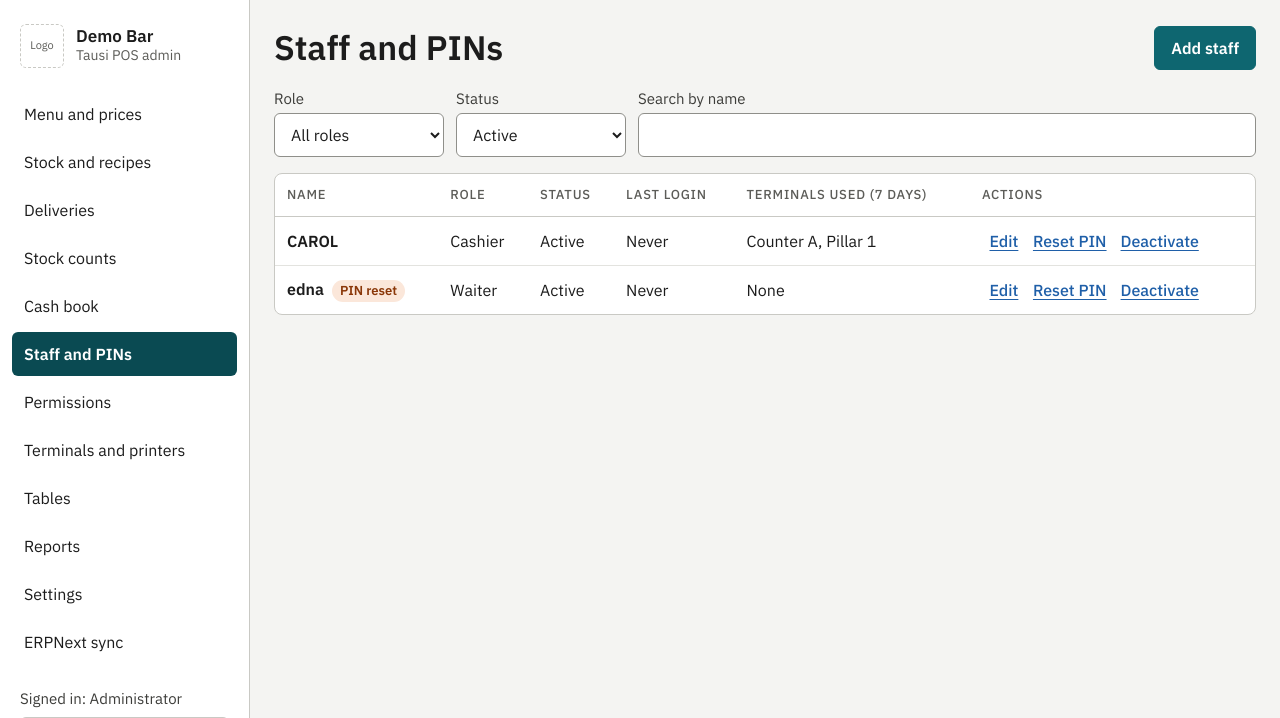
Scenario: Staff and PINs › a supervisor sees only waiters and cashiers and can give only those roles
Expected: the button with aria-label "Edit CAROL" is shown, [982,219,1026,263]
Click the button "Add staff" at {"x": 1205, "y": 48}, box [1154,26,1256,70]
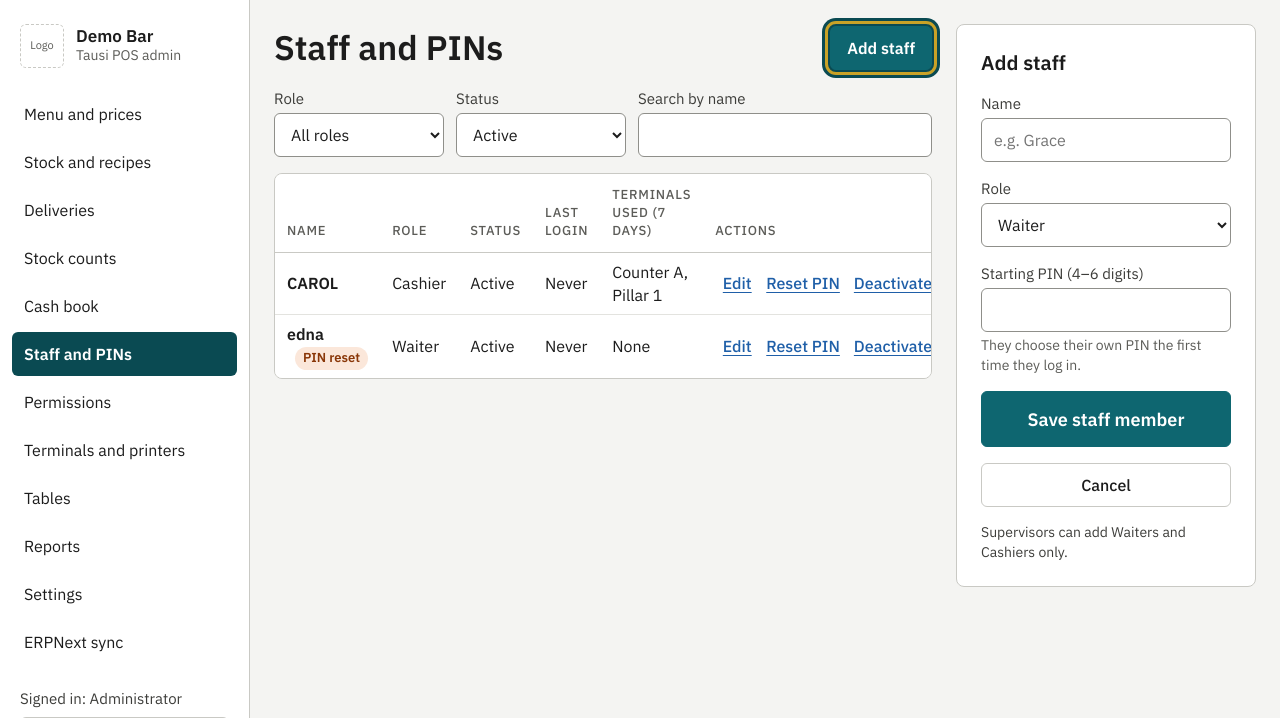
Now the text "Supervisors can add Waiters and Cashiers only." is shown, box [981,523,1186,561]
